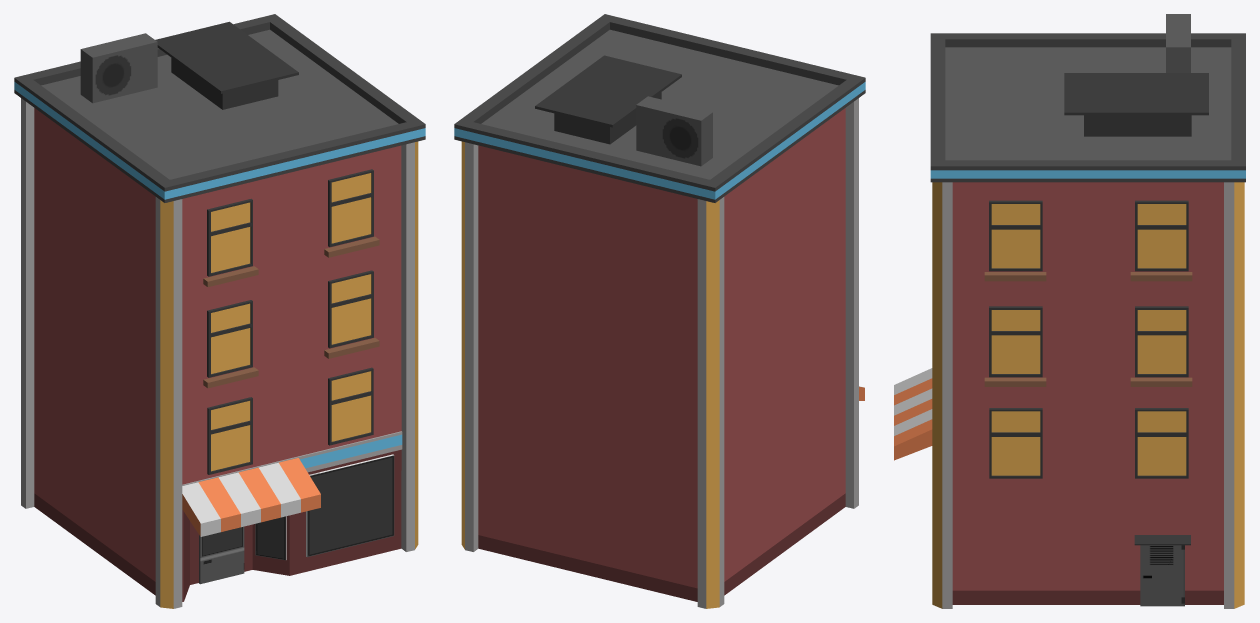
Rendered from shop 5.FBX.
3 views of the same model, side by side, from view 1: azimuth 30°, elevation 25°; view 2: azimuth 150°, elevation 25°; view 3: azimuth 270°, elevation 25° (orthographic). The views are drawn at different scales.
Visible parts, largest first — view 1: Box275; view 2: Box275; view 3: Box275.
Part boxes in pixels (box(x1,y1,x2,y2)): Box275: box(14, 14, 425, 608); Box275: box(454, 14, 865, 608); Box275: box(894, 14, 1245, 608).
Bounding box in the file's own units: 847 × 1394 × 919.
1 material, 1 textured.
